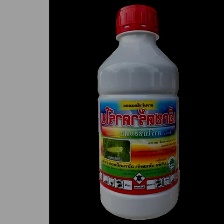book: (97, 2, 183, 221)
